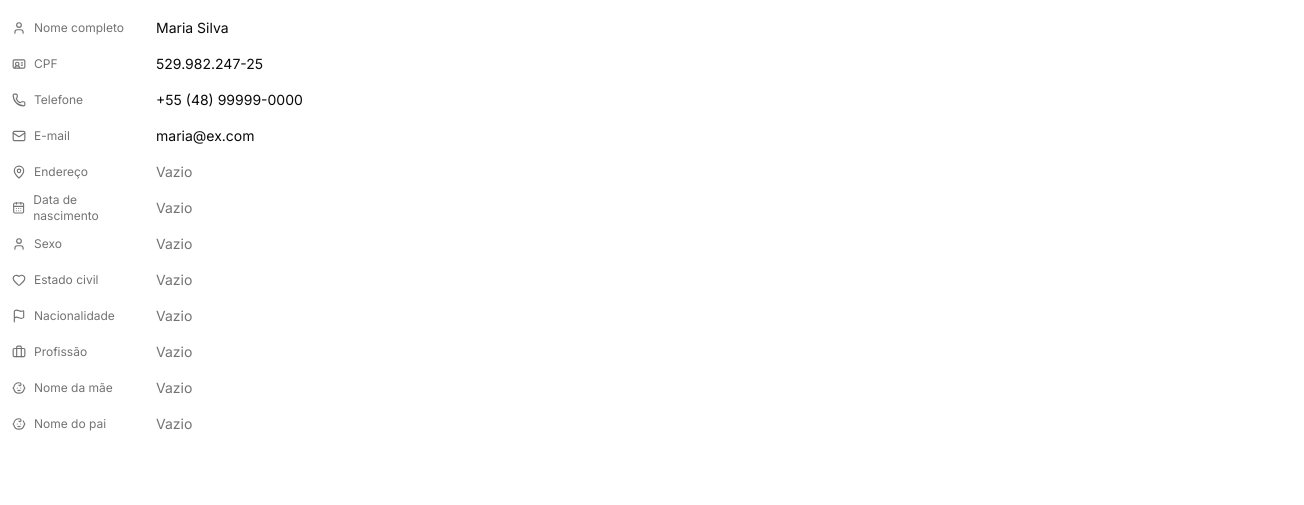
Test case: ClienteDados › clicar fora fecha o campo mantendo o valor digitado, com marca de alterado
Click the button with aria-label "Editar Endereço" at (174, 172), box [148,156,1292,188]
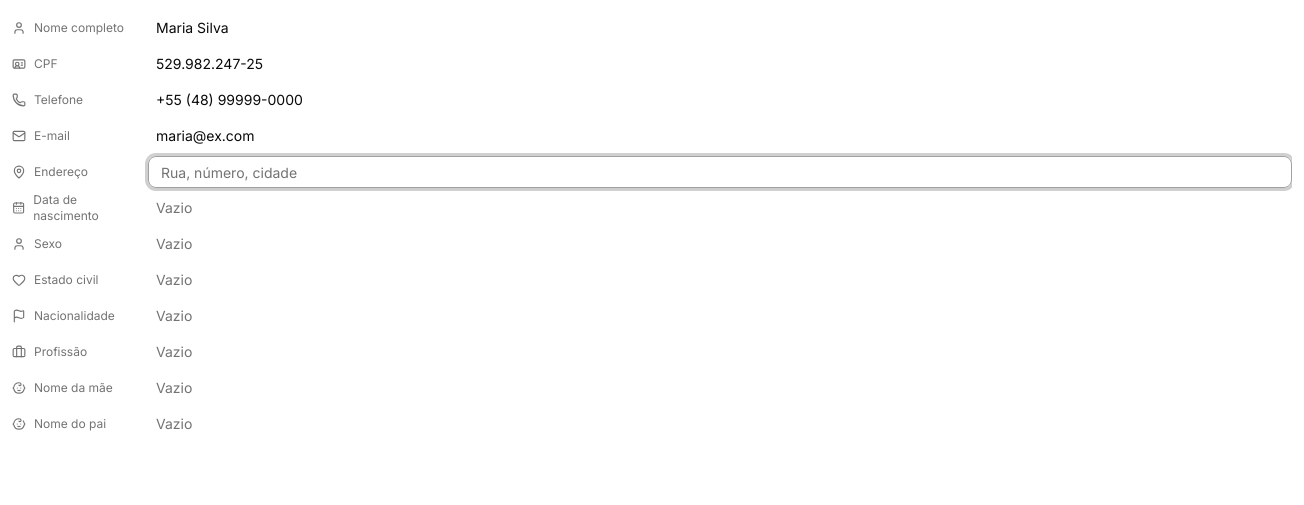
Type "Rua 7, Joinville" into the field labelled "Endereço" at (720, 172), box [148,156,1292,188]
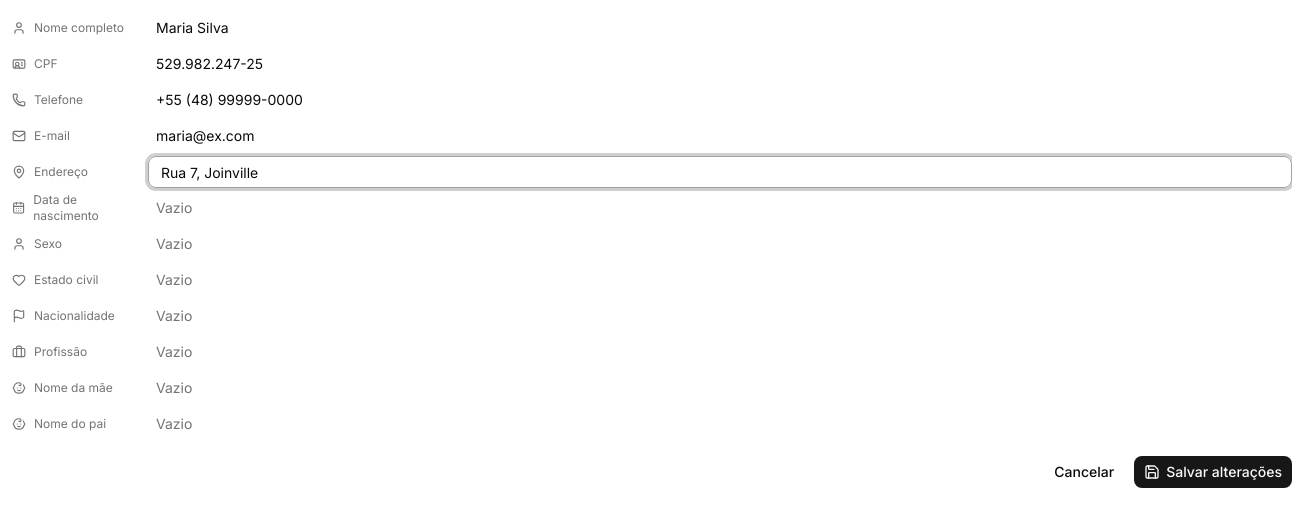
Click the button named "Editar CPF" at (210, 64), box [148,48,1292,80]
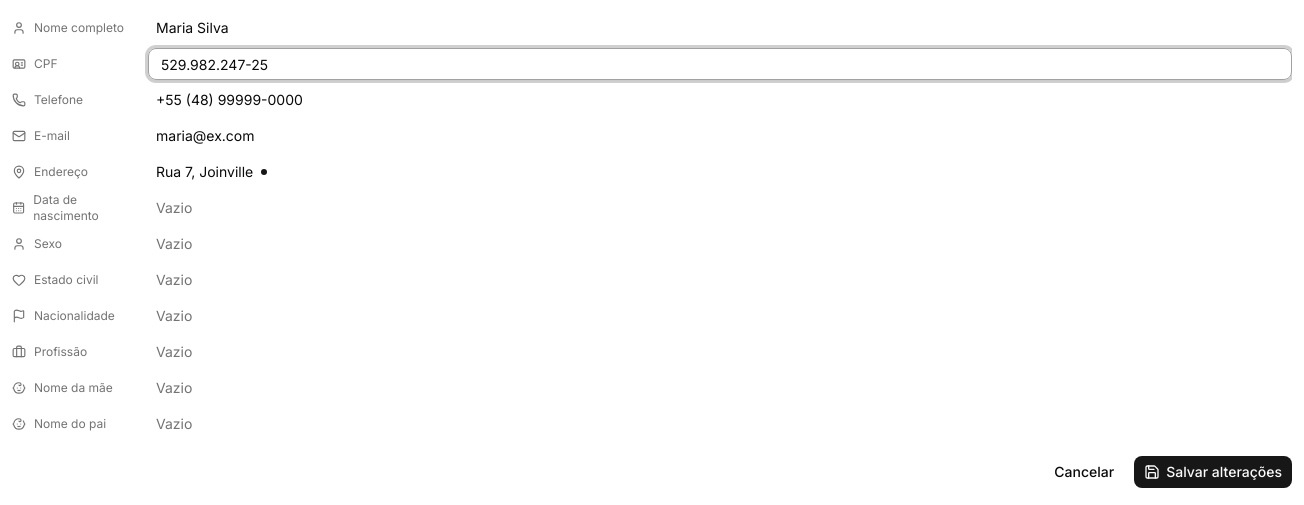
Result: the button with aria-label "Editar Endereço" reads "Rua 7, Joinville" at [148,156,1292,188]
Result: the element named "Alterado, ainda não salvo" is shown at [261,169,267,175]
